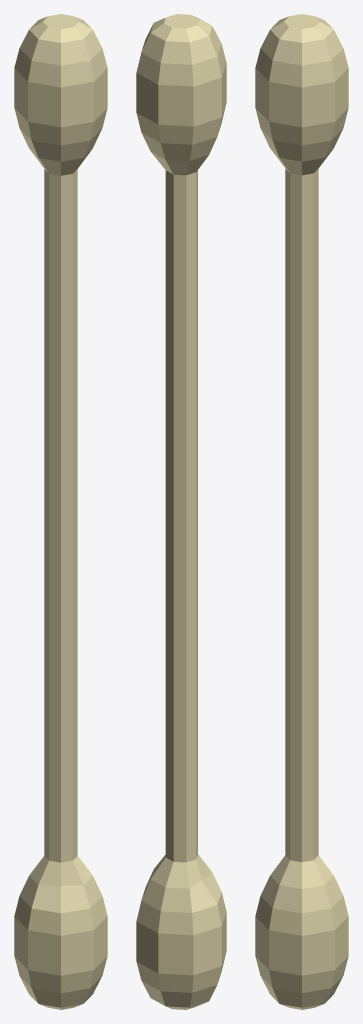
File: ear_stick.fbx
3 views of the same model, side by side, from view 1: azimuth 90°, elevation 25°; view 2: azimuth 150°, elevation 25°; view 3: azimuth 270°, elevation 25° (orthographic).
Visible parts, largest first — view 1: Cylinder.001; view 2: Cylinder.001; view 3: Cylinder.001.
Part boxes in pixels (left/top/right/bottom): Cylinder.001: left=14, top=14, right=107, bottom=1009; Cylinder.001: left=136, top=14, right=226, bottom=1009; Cylinder.001: left=255, top=14, right=348, bottom=1009.
Bounding box in the file's own units: 800 × 9277 × 800.
